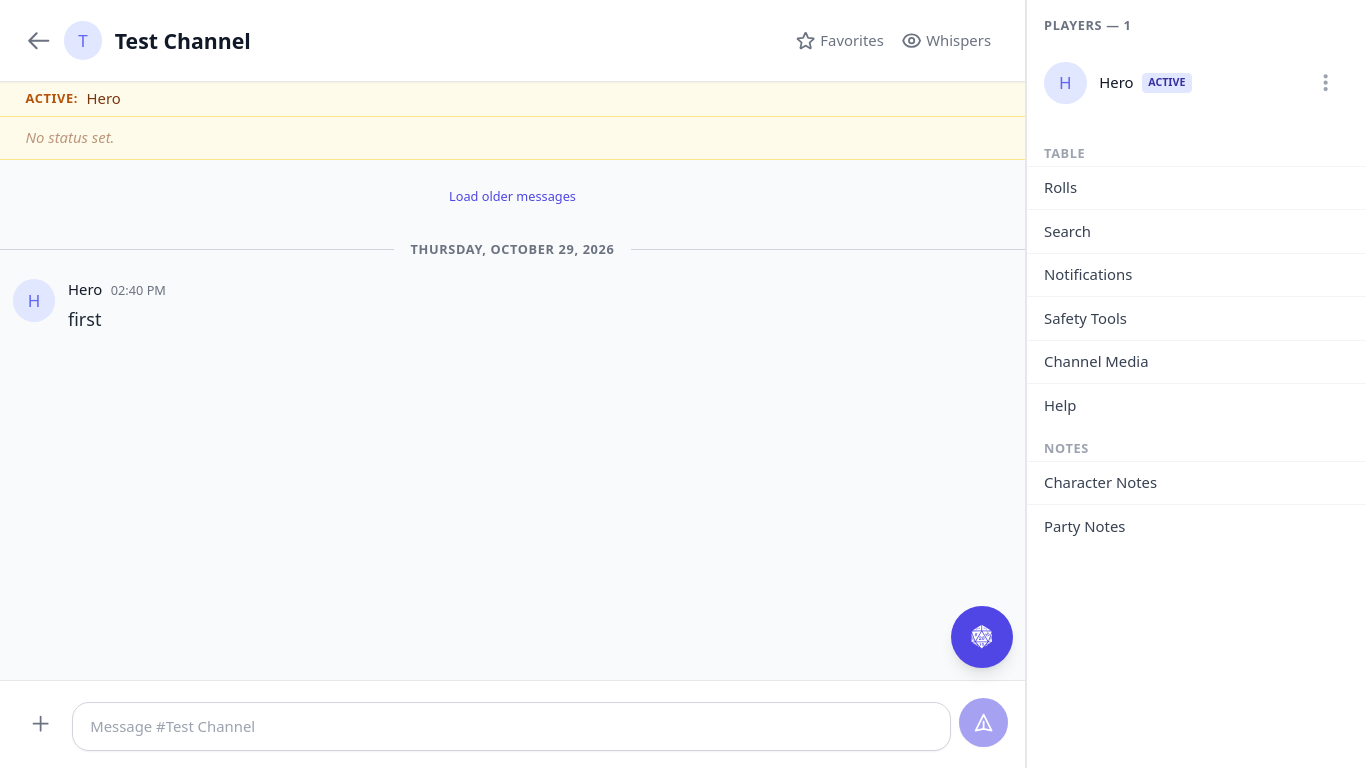
Test: ChannelView search functionality › shows favorites outside the loaded window without paging (#672)
Click the button with aria-label "Show favorites only" at x=839, y=40, box left=786, top=17, right=892, bottom=64
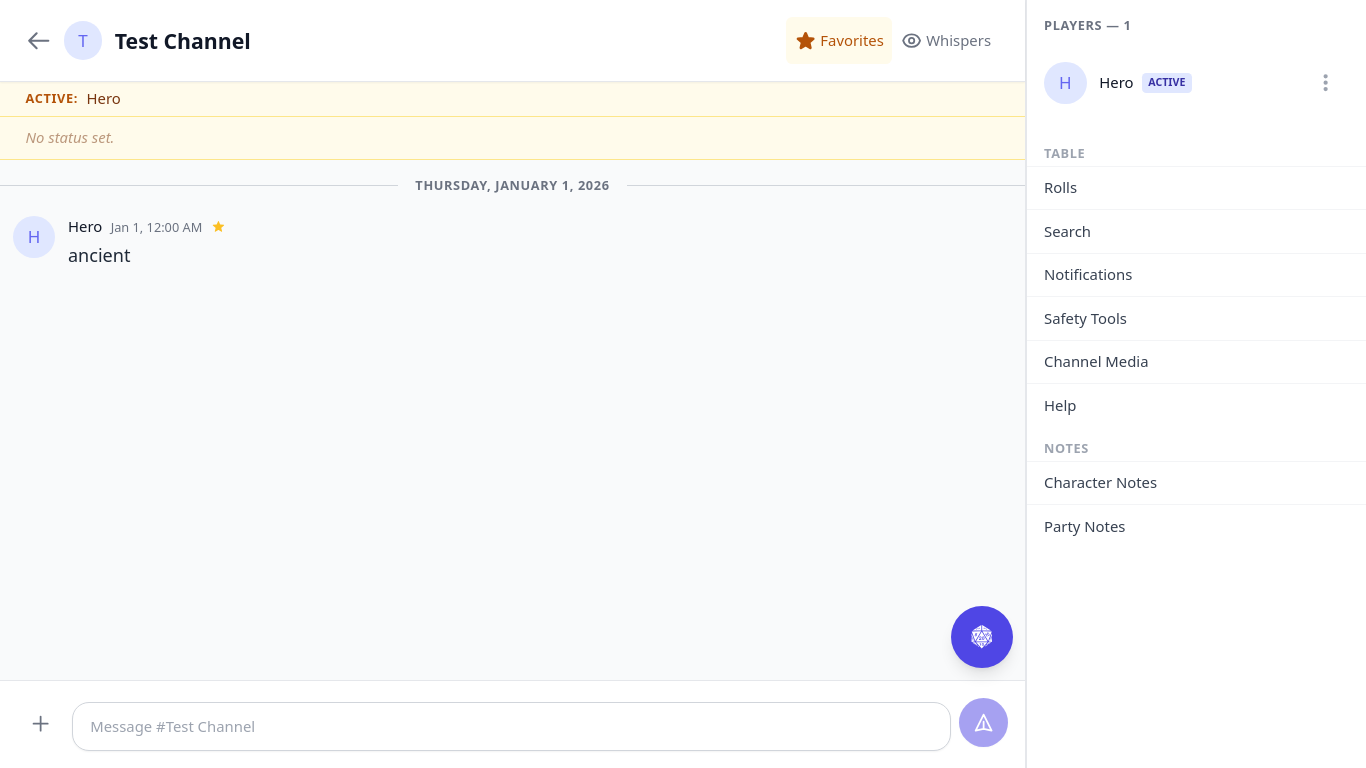
Expected: the text "ancient" is shown, left=68, top=243, right=130, bottom=267
Expected: the text "first" is gone
Expected: the button "Load older messages" is gone
